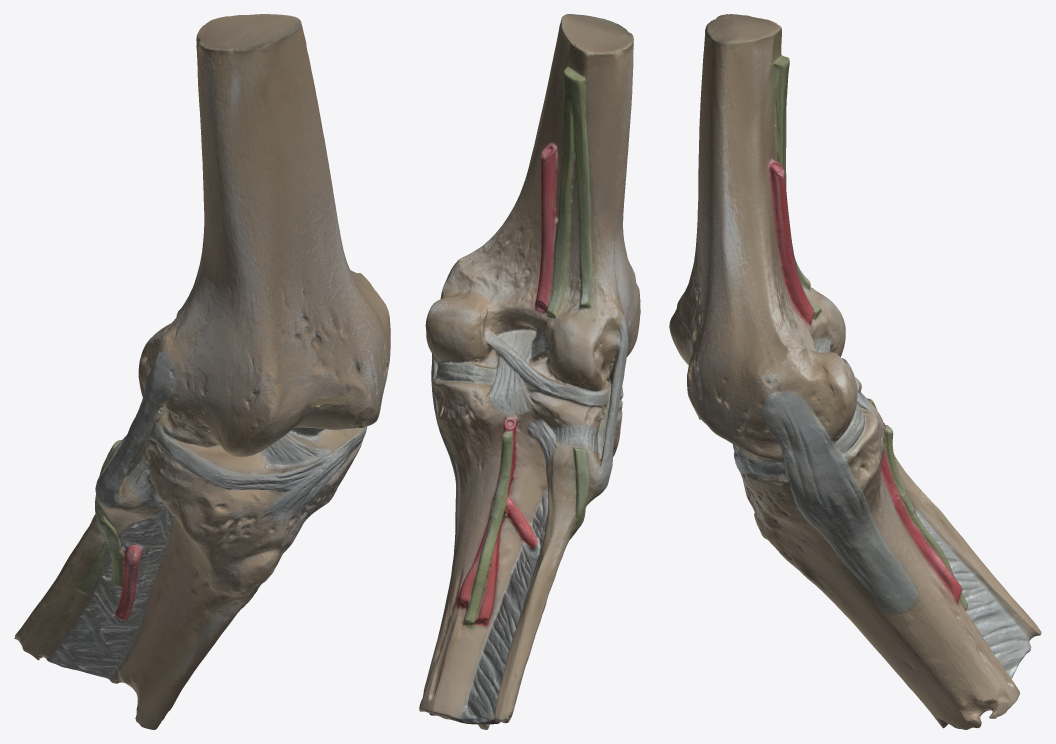
Rendered from Knee.obj.
3 views of the same model, side by side, from view 1: azimuth 30°, elevation 25°; view 2: azimuth 150°, elevation 25°; view 3: azimuth 270°, elevation 25° (orthographic). The views are drawn at different scales.
Parts seen in each view (by area): view 1: Sharp Fusion 1; view 2: Sharp Fusion 1; view 3: Sharp Fusion 1.
Boxes of the visible parts, bbox=[...] form: Sharp Fusion 1: bbox=[14, 14, 390, 729]; Sharp Fusion 1: bbox=[419, 14, 640, 729]; Sharp Fusion 1: bbox=[669, 14, 1041, 729].
Bounding box in the file's own units: 83 × 262 × 127.
Materials: 1 (1 with a texture image).
